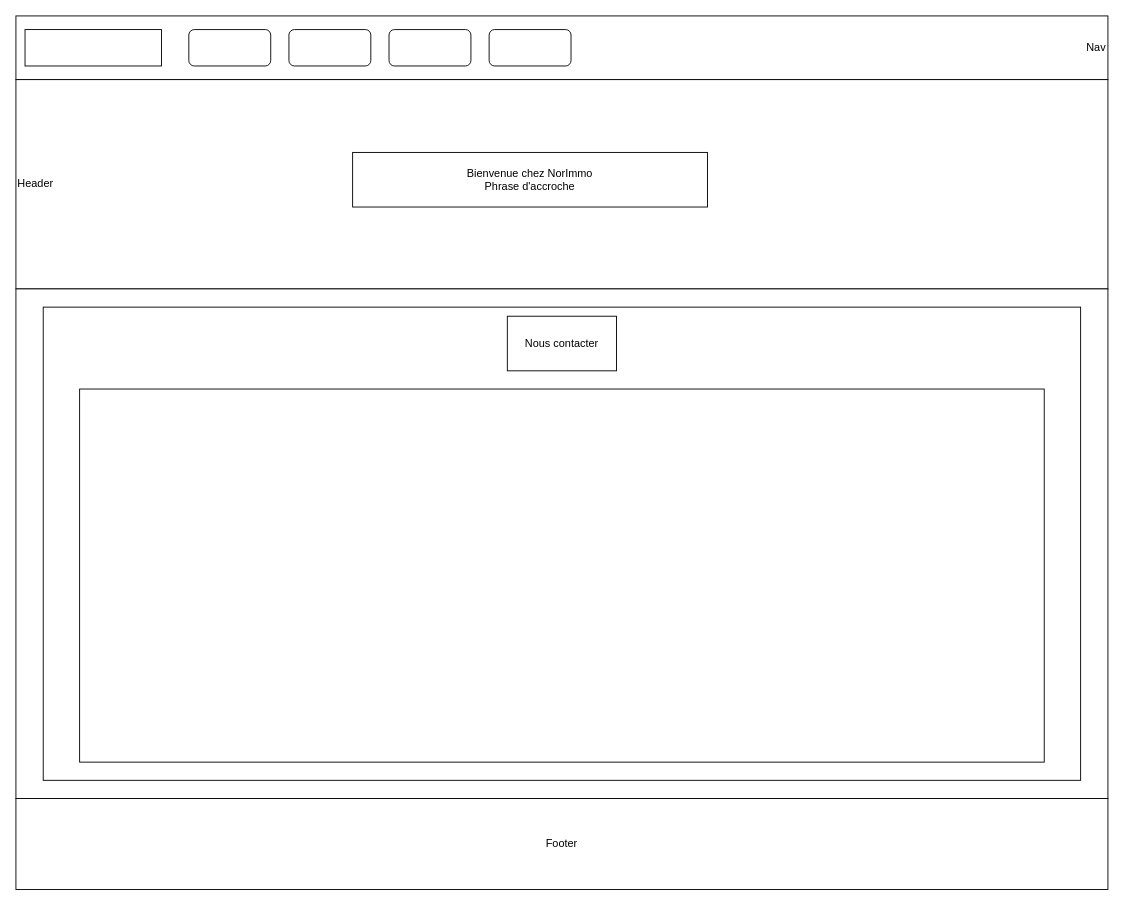
This 1124x905 diagram has some shape labels left out. The centre of each missing label's shape, as x and y in pixels:
Contact Form: pixel 561 575
Titre / logo: pixel 93 47
